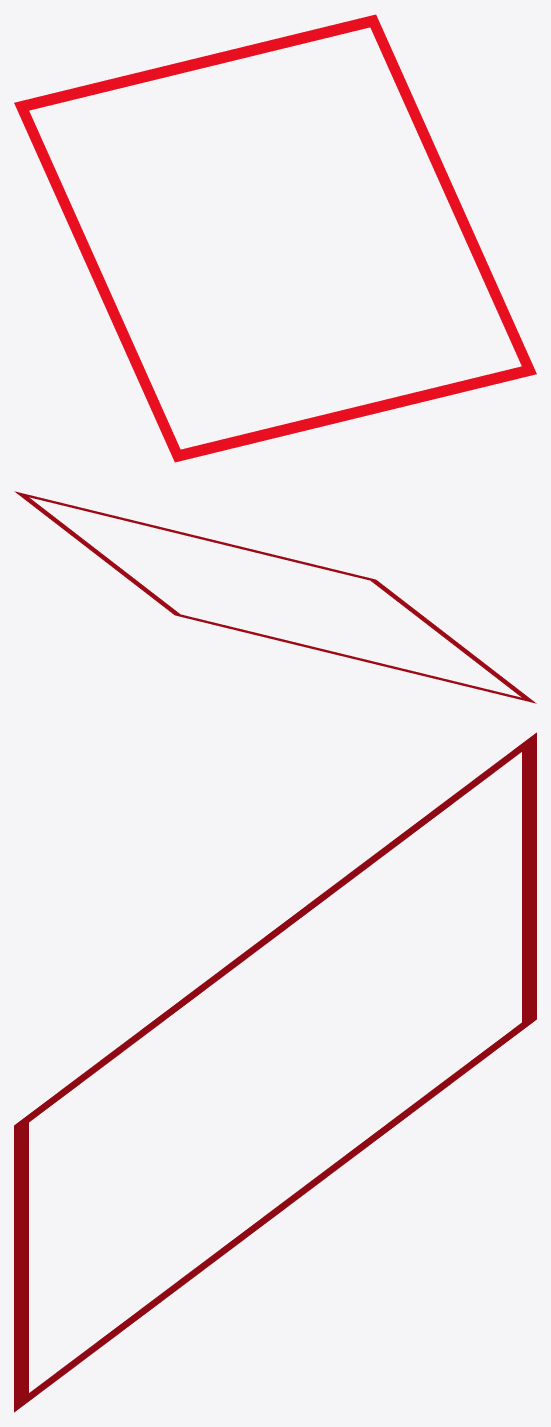
File: Andrea Frame.glb
3 views of the same model, one above another, from view 1: azimuth 30°, elevation 25°; view 2: azimuth 150°, elevation 25°; view 3: azimuth 270°, elevation 25° (orthographic). The views are drawn at different scales.
Visible parts, largest first — view 1: Plane; view 2: Plane; view 3: Plane.
Part boxes in pixels (box(x1,y1,x2,y2)): Plane: box(14, 14, 536, 462); Plane: box(14, 491, 536, 703); Plane: box(14, 732, 536, 1412).
Bounding box in the file's own units: 0.0675 × 0.0431 × 0.052.
